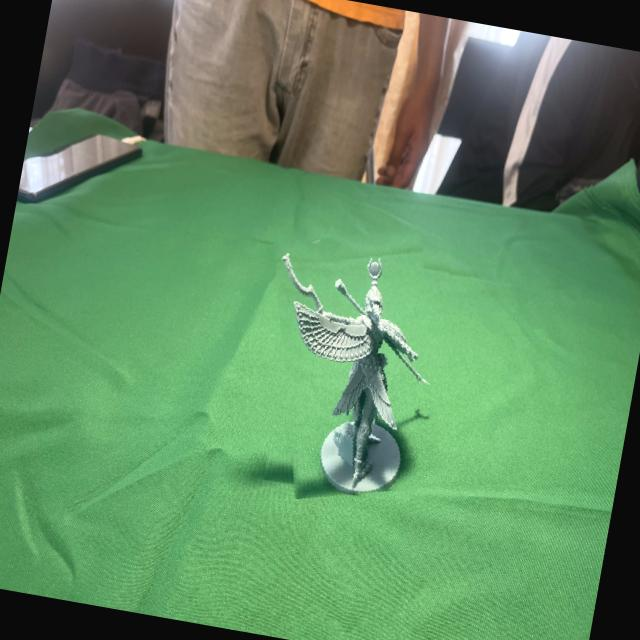isis: (246, 215, 469, 514)
